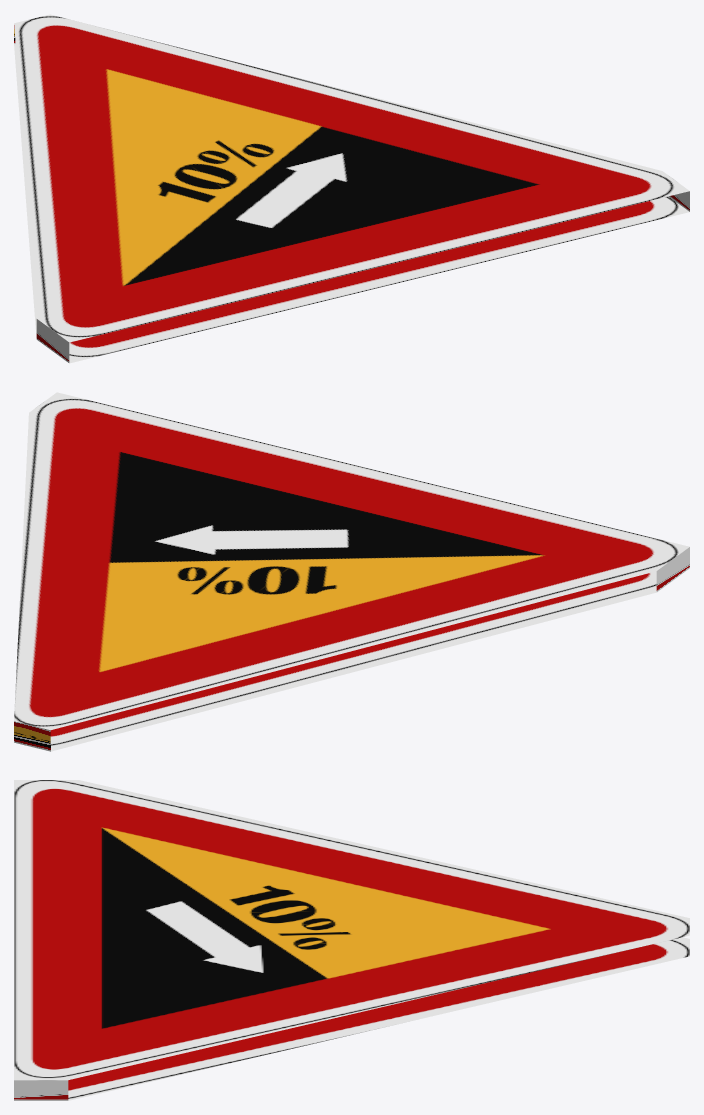
Rendered from UpHillSign.fbx.
The picture shows the model from 3 angles, top to bottom: view 1: azimuth 30°, elevation 25°; view 2: azimuth 150°, elevation 25°; view 3: azimuth 270°, elevation 25°; orthographic projection. The views are drawn at different scales.
Visible parts, largest first — view 1: Box001; view 2: Box001; view 3: Box001.
Boxes of the visible parts, box(x1,y1,x2,y2) form: Box001: box(14, 14, 689, 363); Box001: box(14, 392, 689, 751); Box001: box(14, 780, 689, 1100).
Size of the model in its own units: 59.85 by 1.93 by 56.96.
1 material, 1 textured.
